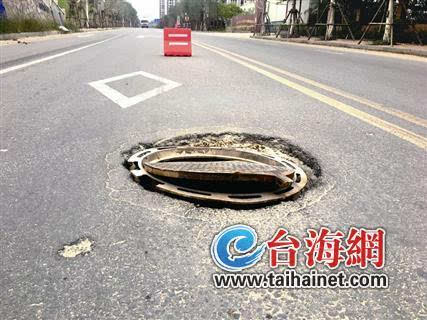circle: (78, 123, 352, 228)
